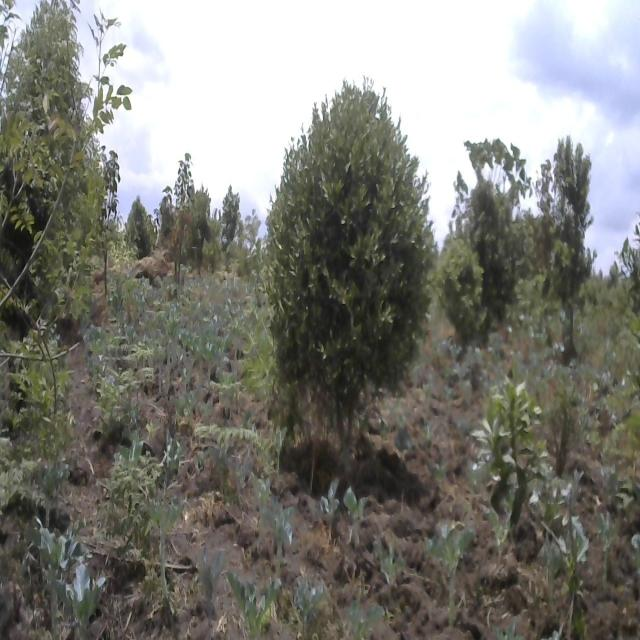Salix alba: (260, 62, 432, 458), (0, 0, 90, 279)
other: (159, 147, 203, 275), (436, 236, 488, 335)
